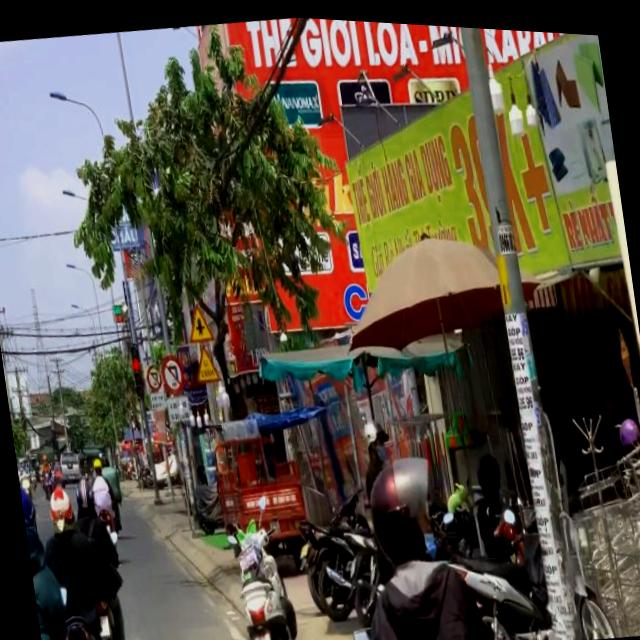Di cham: (192, 339, 220, 381)
Giao nhau voi duong khong uu tien: (184, 299, 216, 342)
